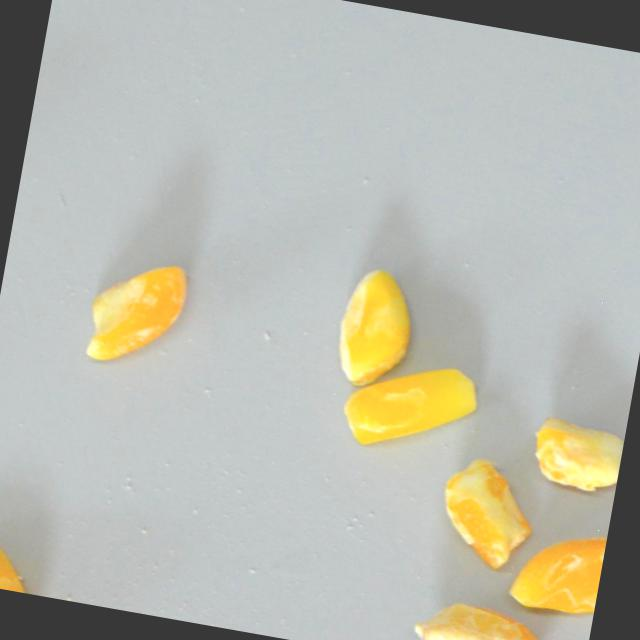dañado: (330, 342, 489, 465), (73, 246, 197, 375), (429, 450, 543, 575), (328, 258, 423, 394), (501, 516, 608, 620), (406, 590, 564, 640), (0, 535, 56, 597)
pelicula: (521, 407, 627, 501)
